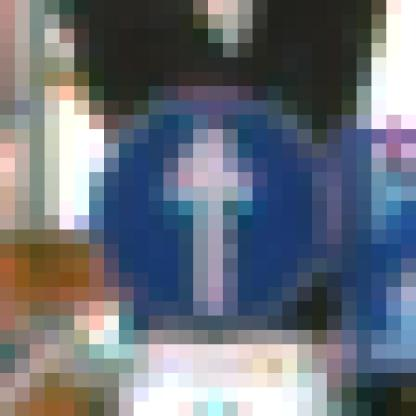AheadOnly: (75, 73, 343, 345)
